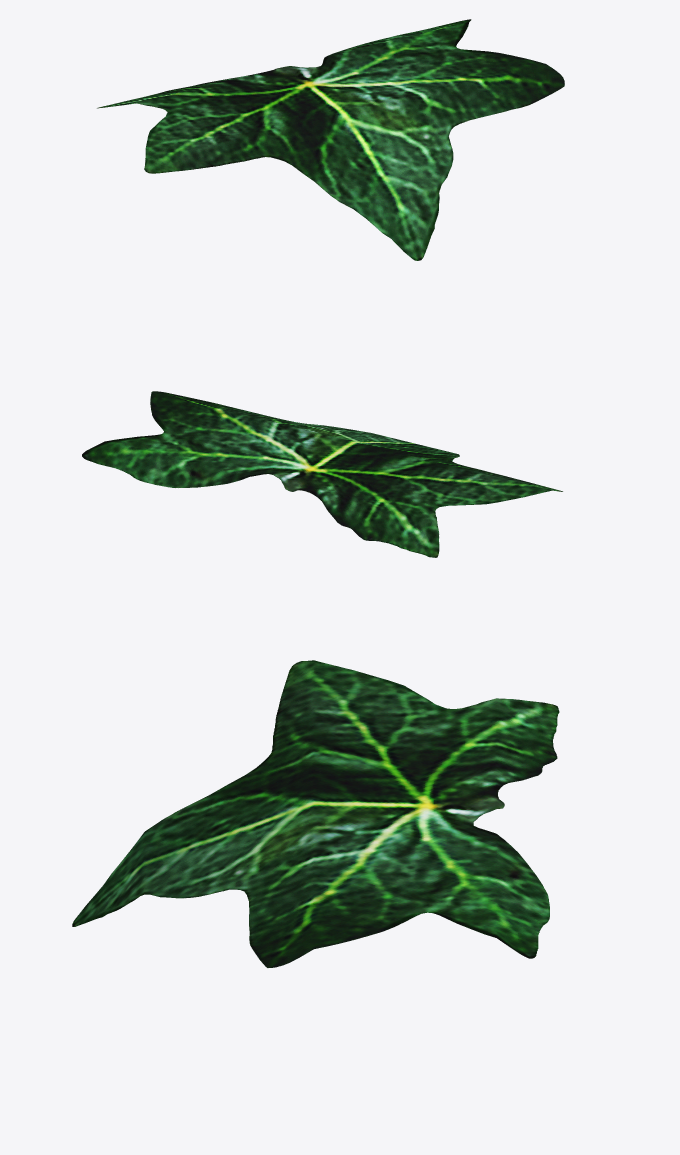
Rendered from ivy 1.fbx.
The picture shows the model from 3 angles, top to bottom: view 1: azimuth 30°, elevation 25°; view 2: azimuth 150°, elevation 25°; view 3: azimuth 270°, elevation 25°; orthographic projection. The views are drawn at different scales.
Parts seen in each view (by area): view 1: pPlane20; view 2: pPlane20; view 3: pPlane20.
Boxes of the visible parts, x1,y1,x2,y2 form: pPlane20: (97, 19, 564, 260); pPlane20: (82, 391, 562, 557); pPlane20: (72, 660, 559, 967).
Size of the model in its own units: 1.94 by 0.521 by 1.72.
